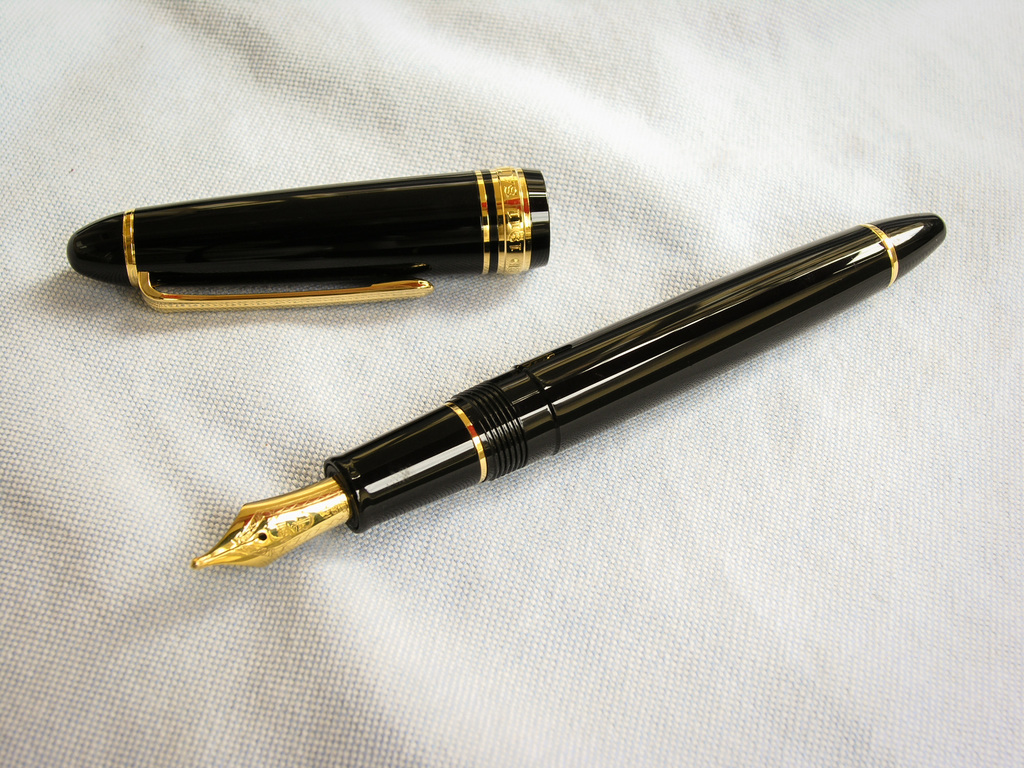Pen: (192, 209, 950, 570)
